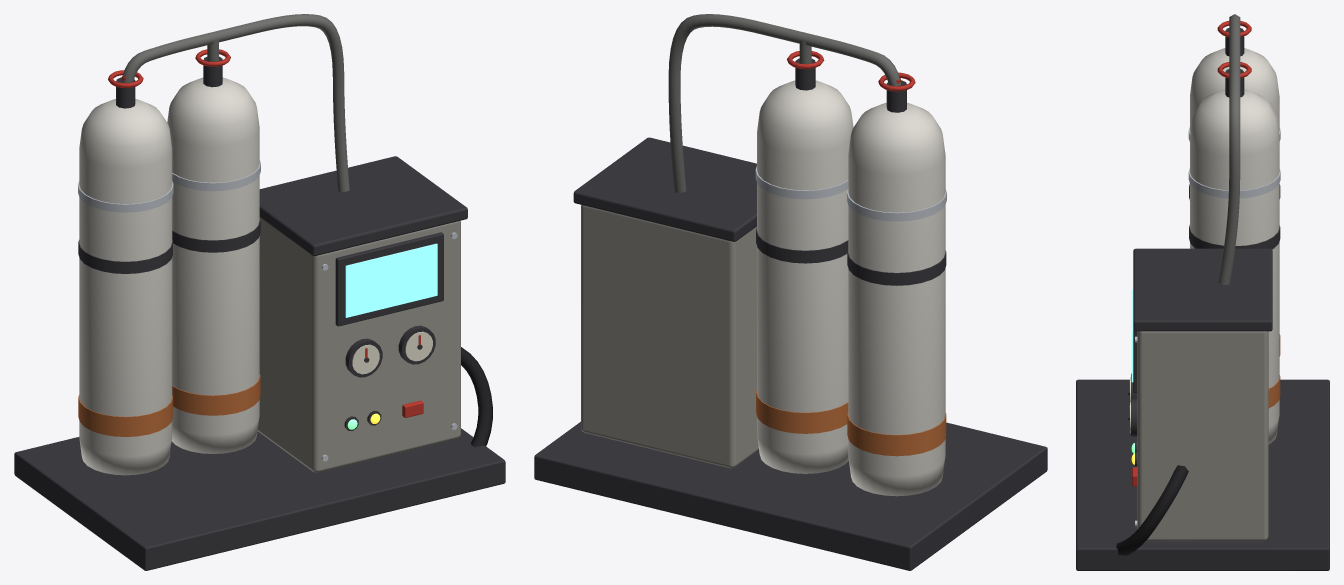
The model's file is station_O.glb.
The picture shows the model from 3 angles, left to right: view 1: azimuth 30°, elevation 25°; view 2: azimuth 150°, elevation 25°; view 3: azimuth 270°, elevation 25°; orthographic projection. The views are drawn at different scales.
Parts seen in each view (by area): view 1: station_O_white, station_O_graph, console, station_O_greyd, screen, station_O_rust, station_O_steel, hose, station_O_face, station_O_red; view 2: station_O_white, station_O_graph, console, station_O_greyd, station_O_rust, station_O_steel, station_O_red; view 3: station_O_graph, console, station_O_white, station_O_greyd, hose, station_O_steel, station_O_red.
Boxes of the visible parts, x1,y1,x2,y2 form: station_O_white: (79,77,259,475); station_O_graph: (14,56,505,570); console: (257,217,460,472); station_O_greyd: (121,14,349,191); screen: (345,243,437,317); station_O_rust: (78,374,260,436); station_O_steel: (78,160,457,461); hose: (461,347,492,447); station_O_face: (352,331,432,374); station_O_red: (108,49,423,417); station_O_white: (757,80,945,496); station_O_graph: (534,58,1047,570); console: (581,205,758,468); station_O_greyd: (668,14,900,193); station_O_rust: (756,390,946,456); station_O_steel: (755,166,946,221); station_O_red: (787,51,915,91); station_O_graph: (1076,28,1329,570); console: (1137,331,1268,541); station_O_white: (1190,48,1279,444); station_O_greyd: (1218,14,1240,284); hose: (1116,465,1188,555); station_O_steel: (1135,127,1280,526); station_O_red: (1132,20,1251,486).
Size of the model in its own units: 2.02 by 2.23 by 1.2.
